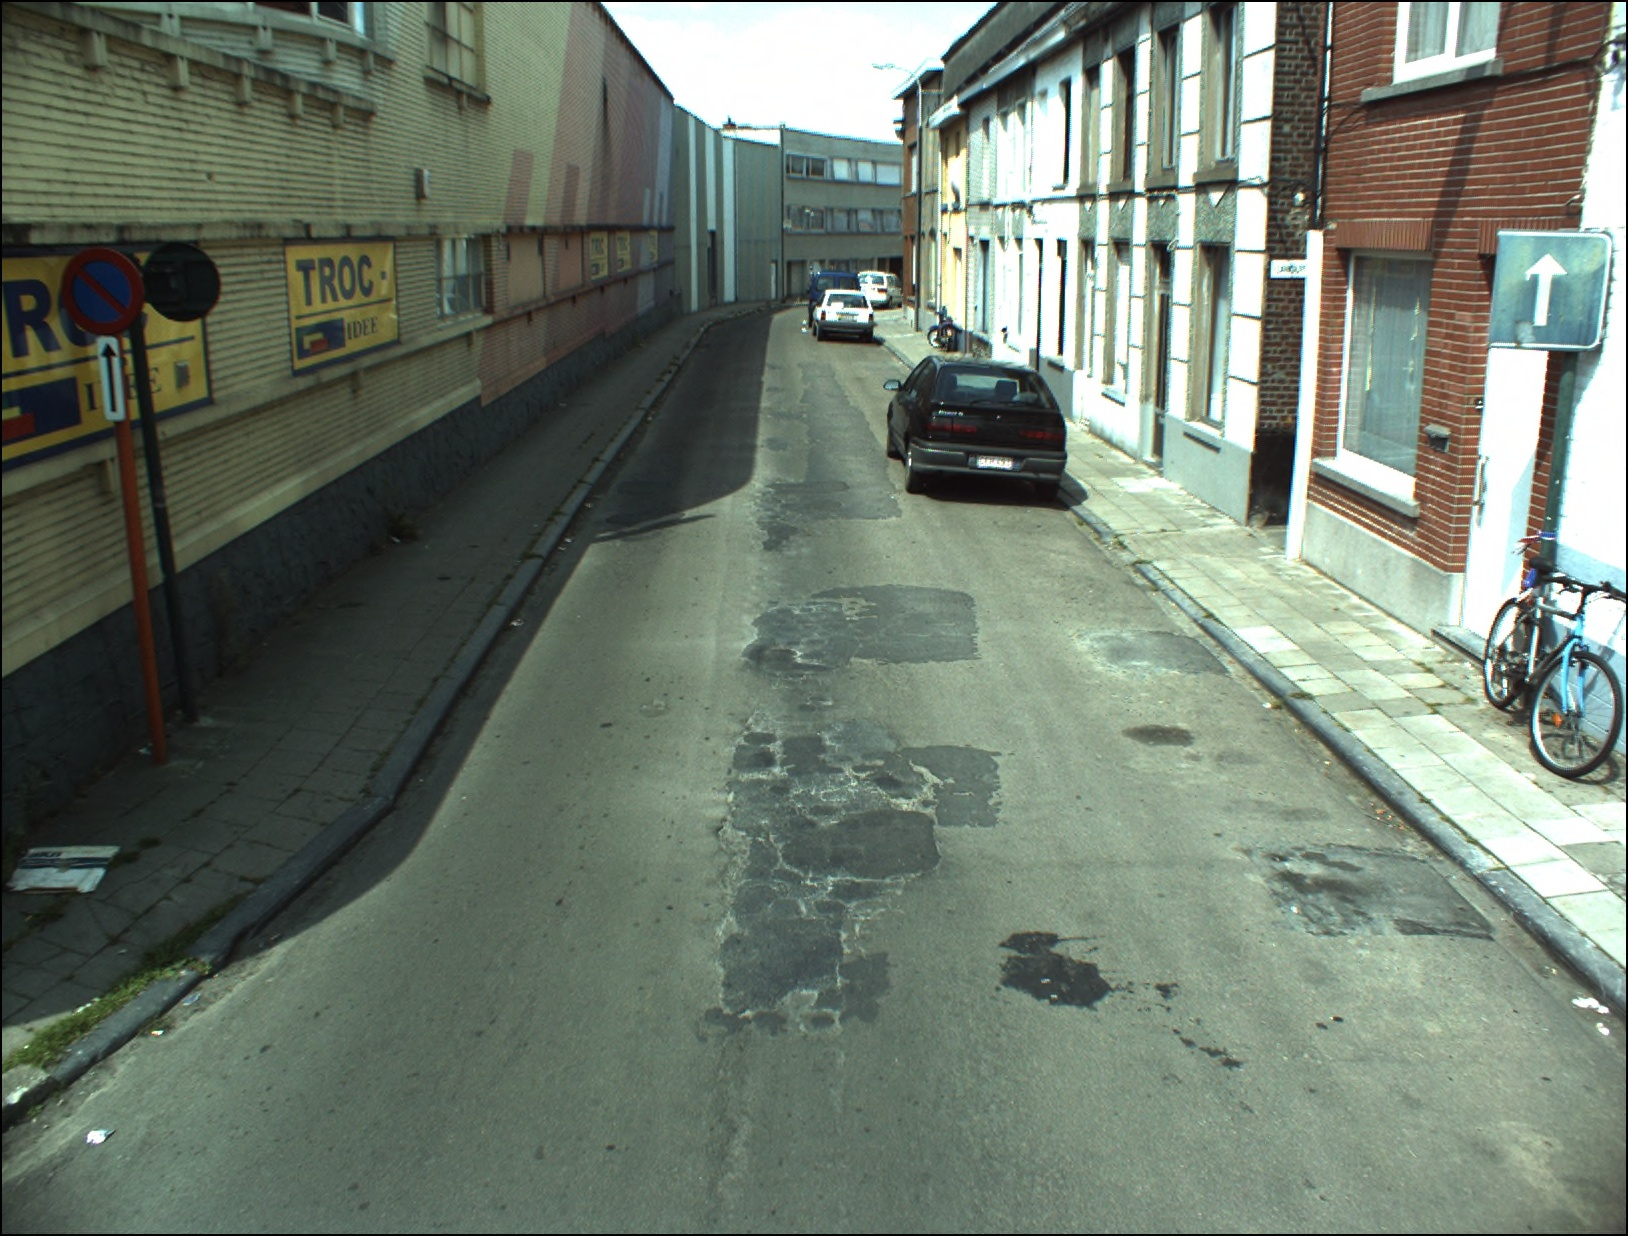noparking: (60, 251, 145, 336)
oneway: (1493, 231, 1606, 351)
